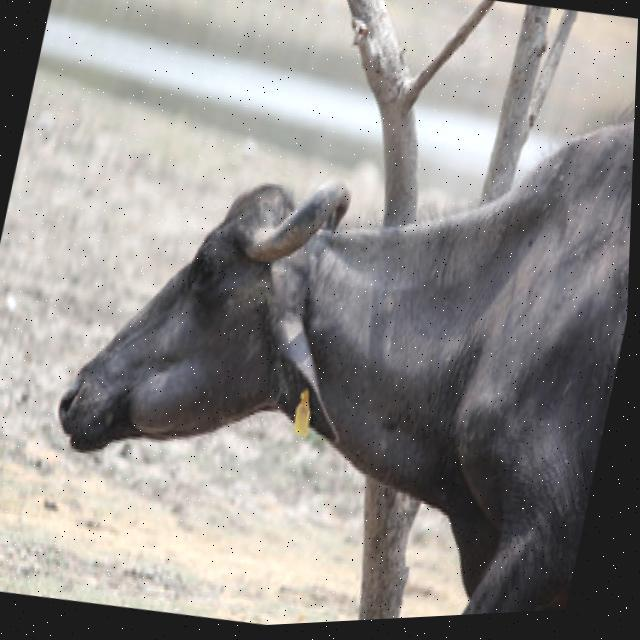Buffalo: (15, 30, 638, 638)
